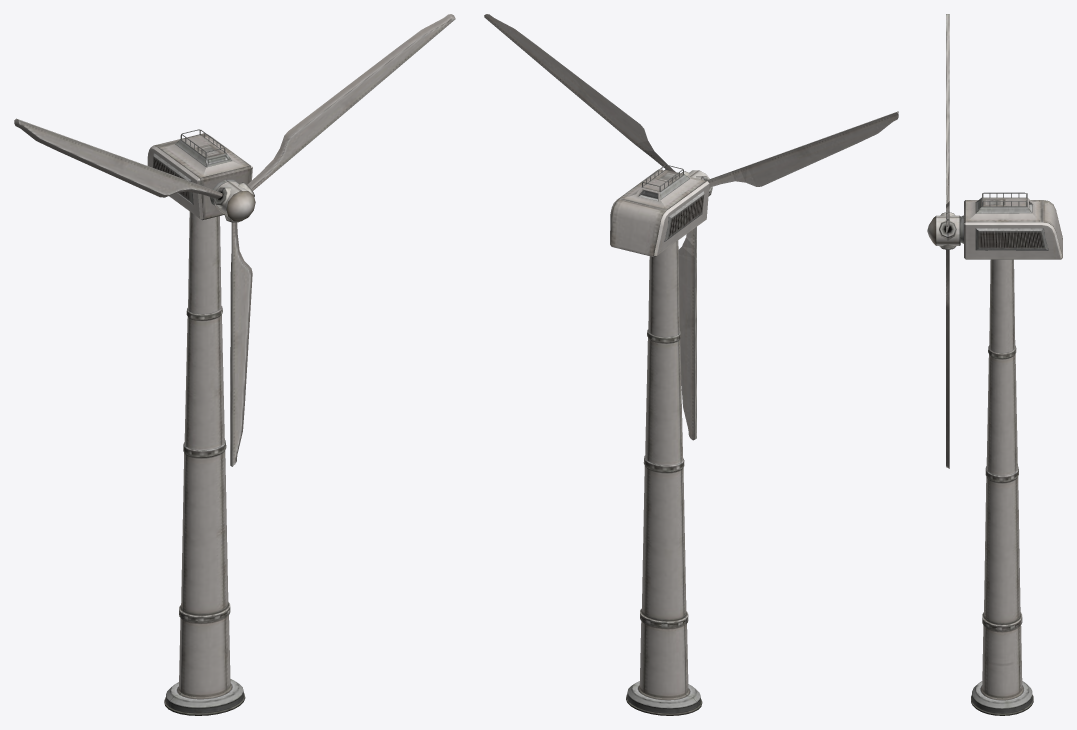
Rendered from windturbine.obj.
The picture shows the model from 3 angles, left to right: view 1: azimuth 30°, elevation 25°; view 2: azimuth 150°, elevation 25°; view 3: azimuth 270°, elevation 25°; orthographic projection. The views are drawn at different scales.
Parts seen in each view (by area): view 1: Turbine_Main, Turbine_Fan; view 2: Turbine_Main, Turbine_Fan; view 3: Turbine_Main, Turbine_Fan.
Part boxes in pixels (bbox=[...]): Turbine_Main: bbox=[147, 129, 252, 715]; Turbine_Fan: bbox=[14, 14, 455, 466]; Turbine_Main: bbox=[610, 165, 709, 715]; Turbine_Fan: bbox=[484, 14, 898, 440]; Turbine_Main: bbox=[960, 192, 1062, 715]; Turbine_Fan: bbox=[927, 14, 960, 468].
Size of the model in its own units: 91.84 by 131 by 27.28.
2 materials, 2 textured.
